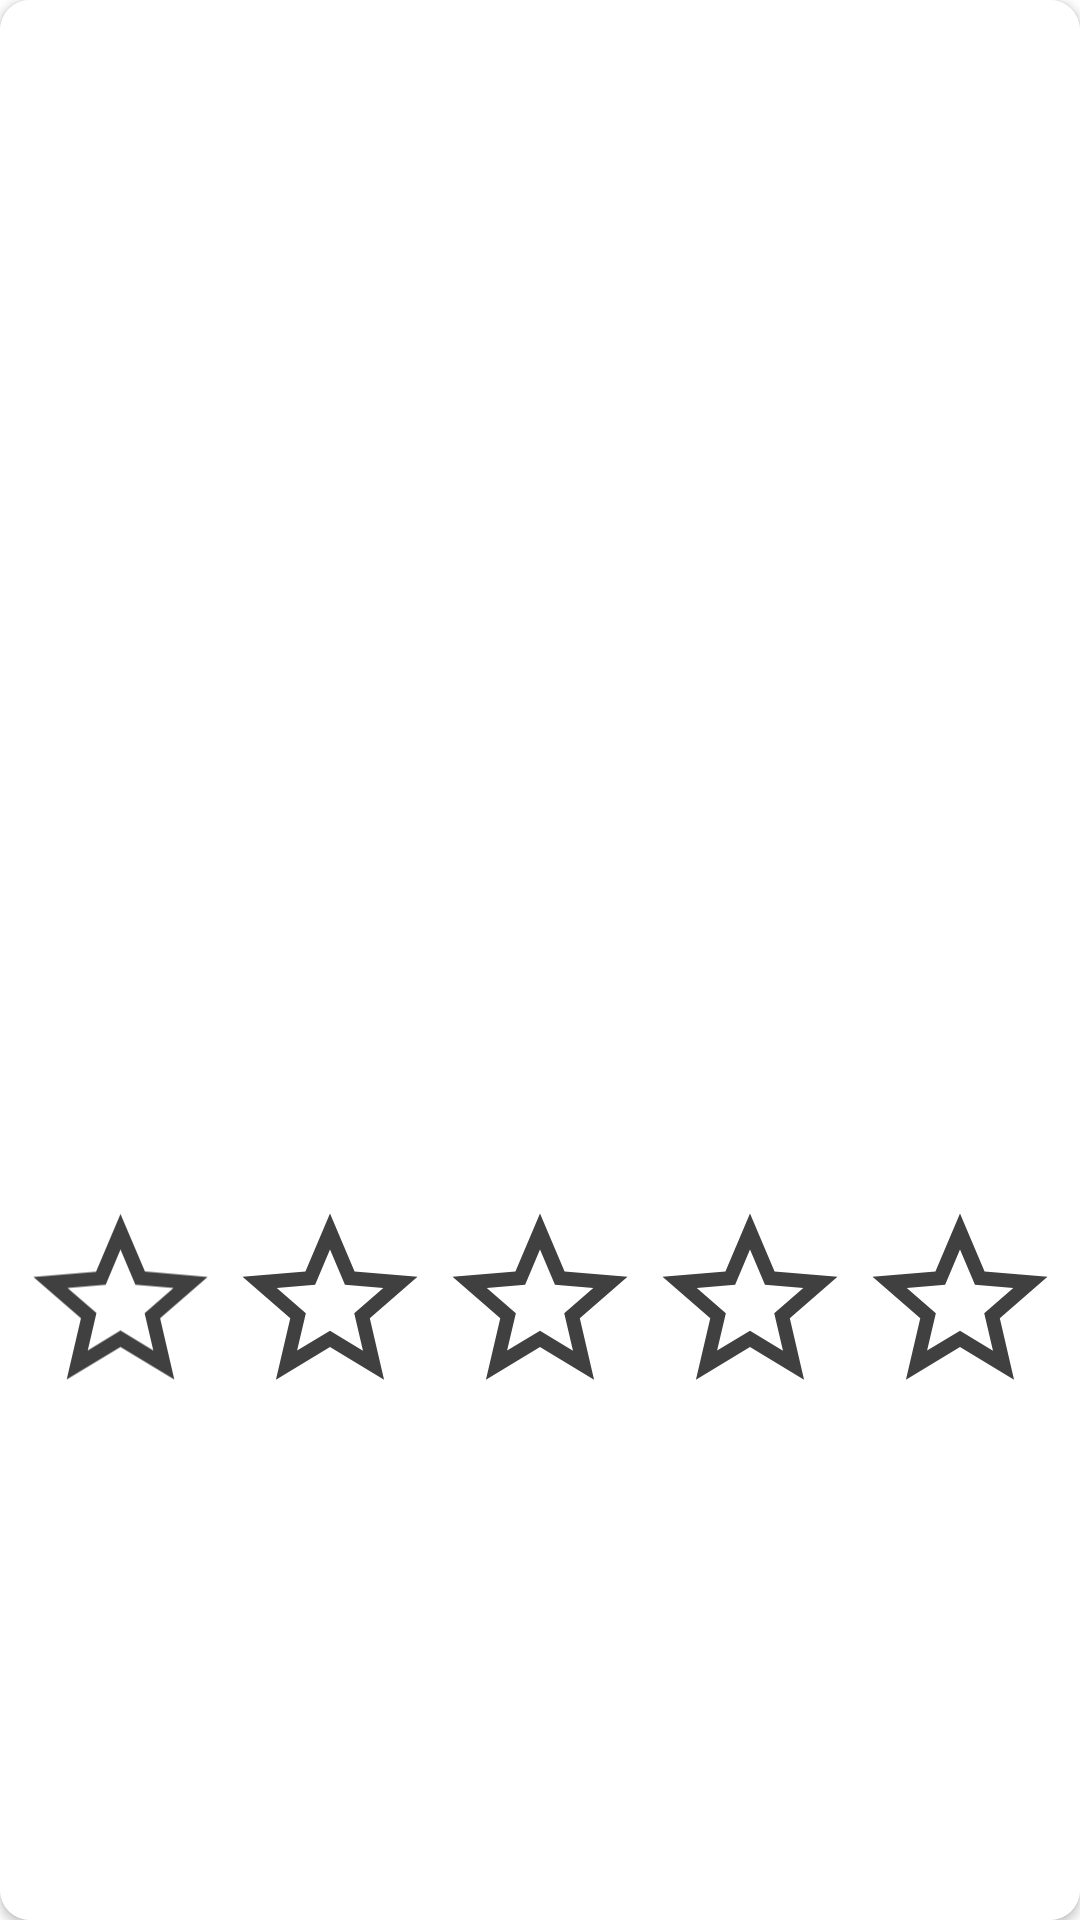

Icon bounding boxes for this 1080*1920 phone screenshot, format (x1, y1, x2, y2):
star empty: (34, 1214, 207, 1380), (243, 1214, 417, 1380), (453, 1214, 627, 1380), (663, 1214, 837, 1380), (873, 1214, 1047, 1380)
